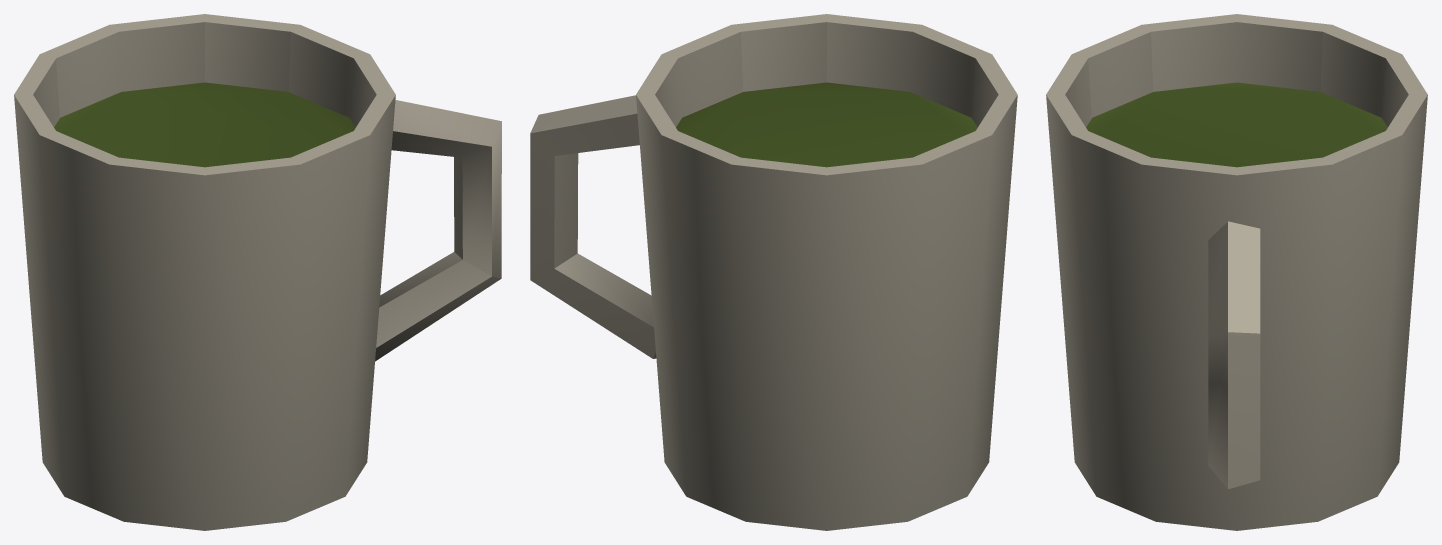
Rendered from infusion.glb.
The picture shows the model from 3 angles, left to right: view 1: azimuth 30°, elevation 25°; view 2: azimuth 150°, elevation 25°; view 3: azimuth 270°, elevation 25°; orthographic projection.
Parts seen in each view (by area): view 1: infusion; view 2: infusion; view 3: infusion.
Boxes of the visible parts, bbox=[...] form: infusion: bbox=[14, 14, 501, 530]; infusion: bbox=[530, 14, 1017, 530]; infusion: bbox=[1046, 14, 1427, 530].
Bounding box in the file's own units: 0.1108 × 0.085 × 0.08.
